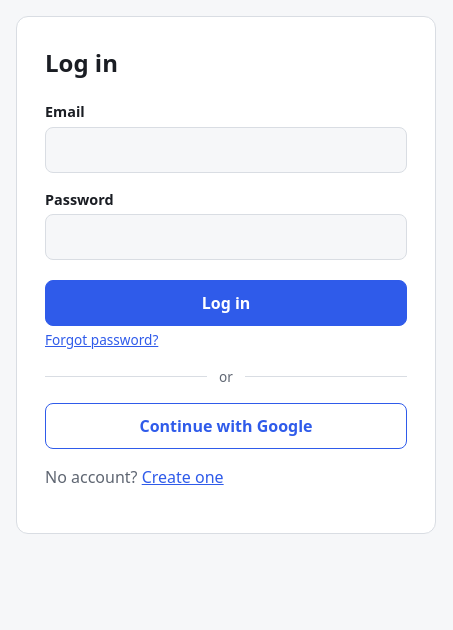
Test case: login form › shows a friendly message when rate limited
The width and height of the screenshot is (453, 630).
Type "erin@example.com" into the field labelled "Email".
click(226, 150); type("erin@example.com")  # box [45,127,407,173]
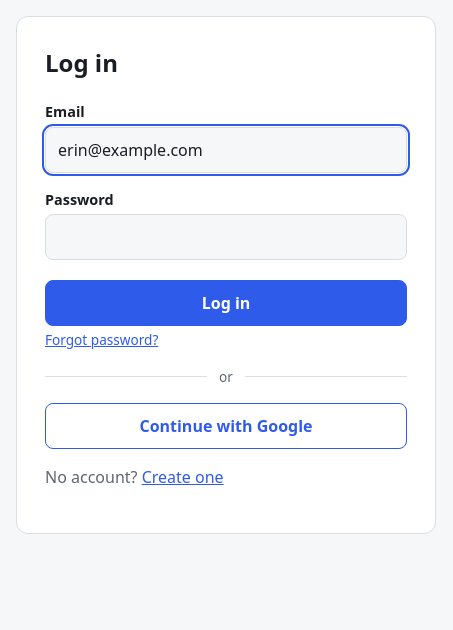
Type "x" into the password field labelled "Password".
click(226, 237); type("x")  # box [45,214,407,260]
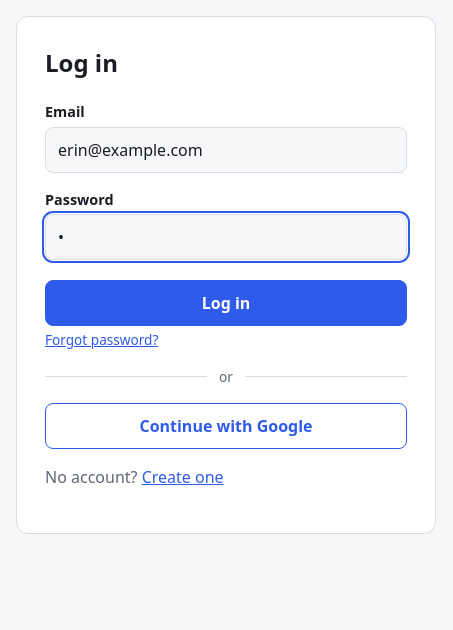
Click the button "Log in".
click(226, 303)  # box [45,280,407,326]
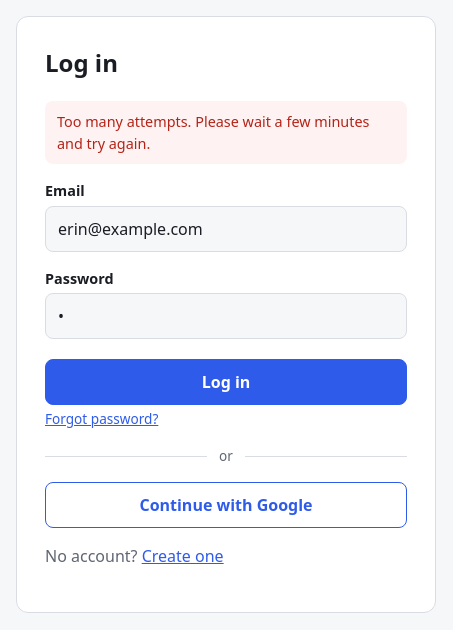
Now the message shows "wait a few minutes", box [57,112,369,153]
